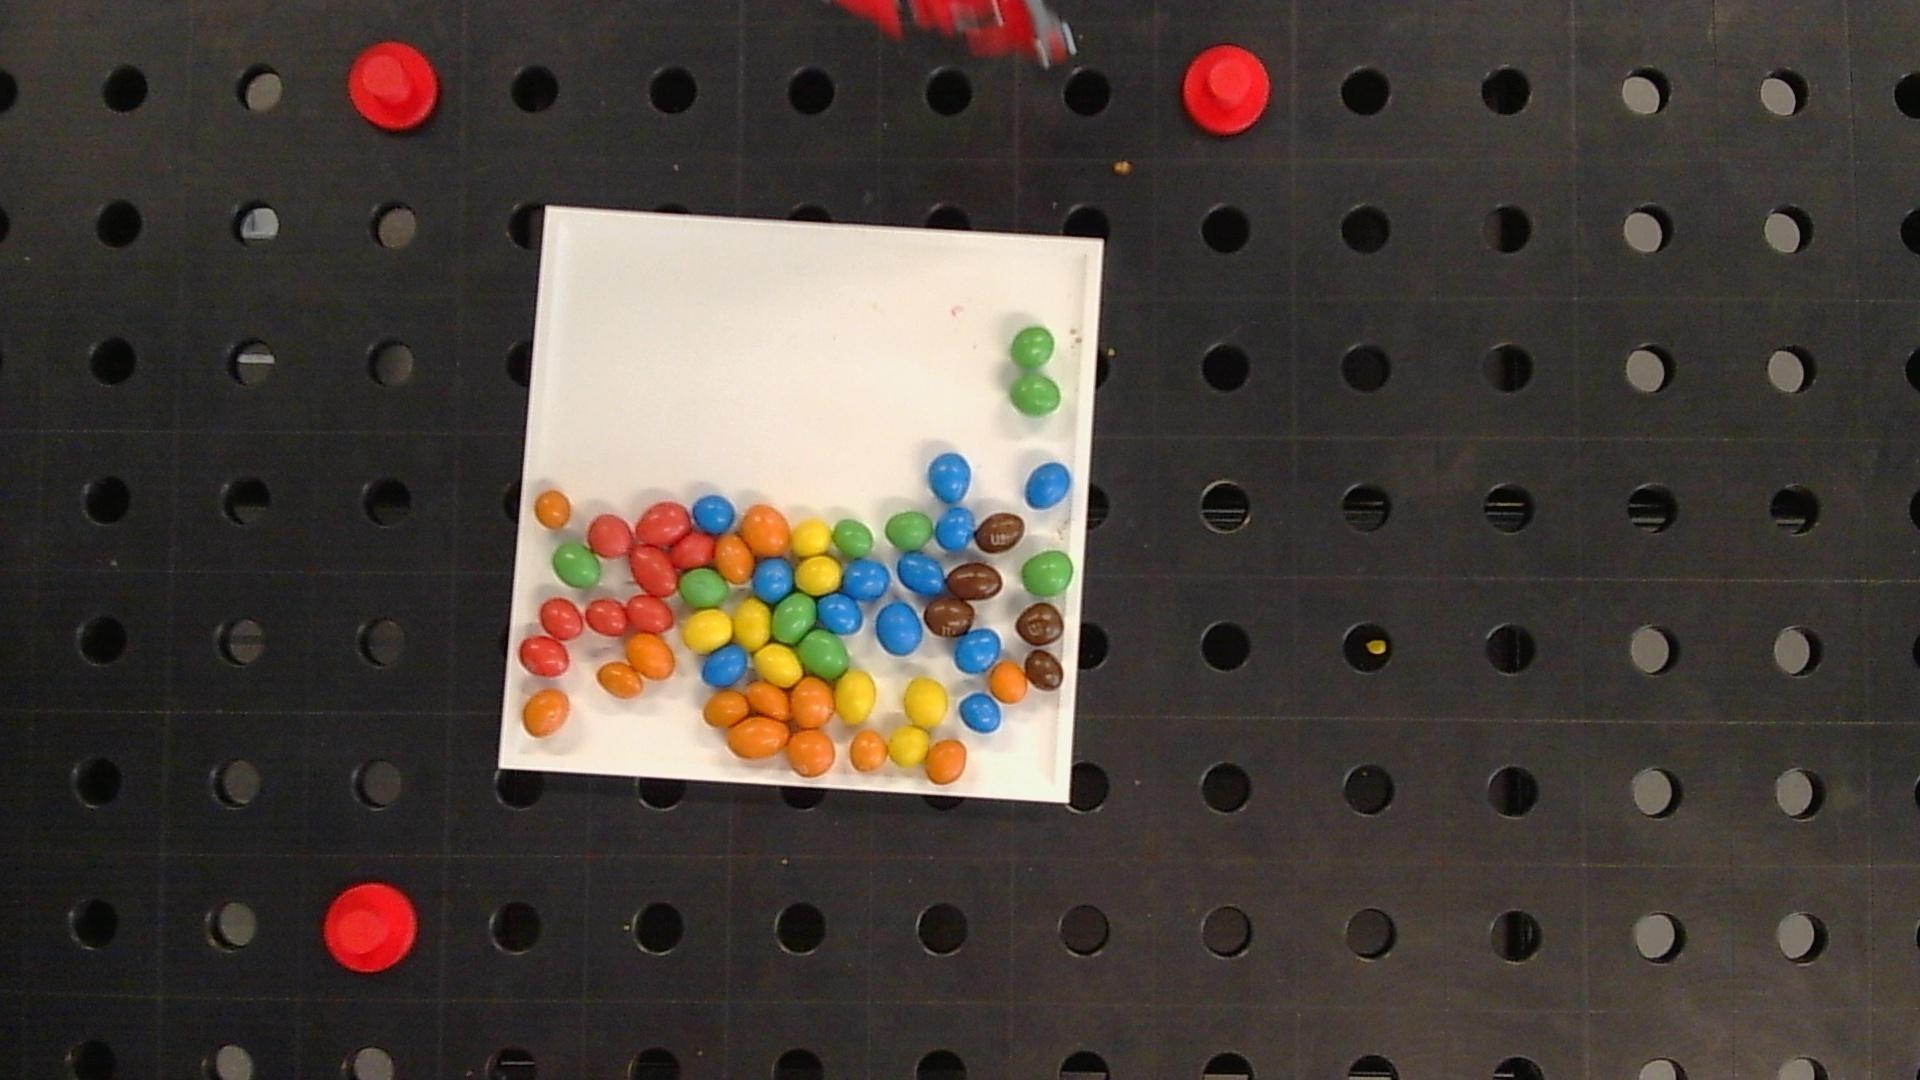blue: (877, 601, 923, 654), (928, 452, 971, 504), (955, 629, 1001, 674), (1026, 463, 1071, 508), (841, 559, 890, 600), (898, 554, 945, 595), (818, 592, 864, 633), (703, 646, 748, 687), (753, 558, 794, 600), (936, 508, 976, 551), (960, 694, 1002, 733), (692, 495, 736, 533)
brown: (945, 563, 1004, 600), (1015, 603, 1064, 646), (976, 513, 1025, 553), (924, 599, 975, 637), (1025, 651, 1064, 690)
green: (799, 630, 849, 678), (1022, 551, 1073, 596), (553, 542, 601, 588), (773, 592, 816, 642), (1010, 373, 1062, 415), (679, 568, 728, 608), (1010, 327, 1055, 368), (886, 510, 932, 550), (832, 518, 874, 558)
orange: (727, 717, 790, 757), (741, 505, 790, 555), (626, 633, 675, 679), (522, 690, 571, 736), (787, 729, 835, 775), (790, 679, 835, 728), (715, 534, 754, 583), (926, 740, 967, 783), (748, 680, 791, 720), (597, 662, 644, 698), (849, 729, 887, 771), (704, 691, 749, 727), (990, 661, 1027, 702), (534, 489, 571, 527)
red: (630, 543, 676, 596), (636, 501, 691, 545), (520, 636, 570, 676), (587, 513, 633, 555), (542, 595, 582, 640), (585, 599, 630, 636), (628, 596, 674, 632), (671, 531, 713, 566)
yellow: (682, 609, 732, 653), (905, 678, 948, 727), (835, 671, 876, 723), (735, 599, 770, 649), (756, 646, 800, 684), (795, 556, 841, 593), (887, 725, 928, 766), (791, 518, 832, 556)
